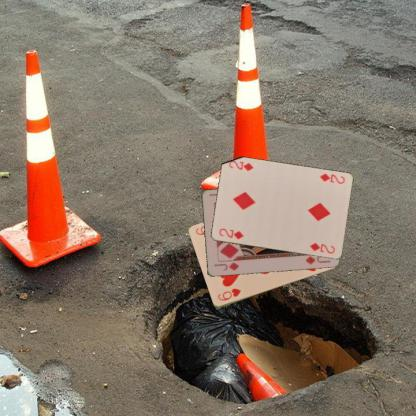2d: (216, 226, 244, 241), (317, 171, 346, 185)
6h: (215, 286, 242, 302)
Jd: (211, 260, 240, 272)
